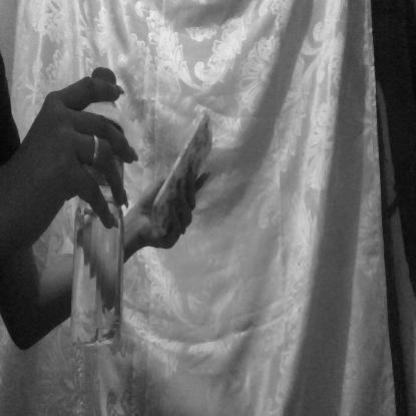Plastic Bottle: (55, 41, 160, 381)
